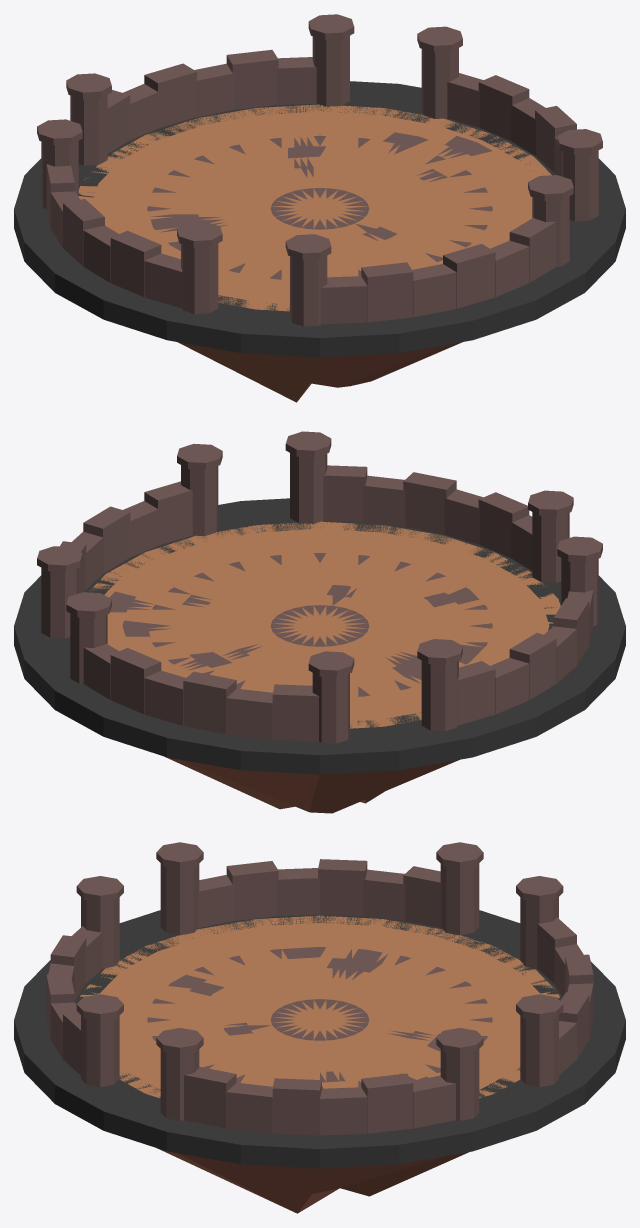
Rendered from arena.glb.
3 views of the same model, one above another, from view 1: azimuth 30°, elevation 25°; view 2: azimuth 150°, elevation 25°; view 3: azimuth 270°, elevation 25° (orthographic).
Parts seen in each view (by area): view 1: Arena; view 2: Arena; view 3: Arena.
Part boxes in pixels (x1,y1,x2,y2): Arena: (14,14,625,402); Arena: (14,431,625,813); Arena: (14,842,625,1213).
Bounding box in the file's own units: 11.4 × 5.18 × 11.4.
